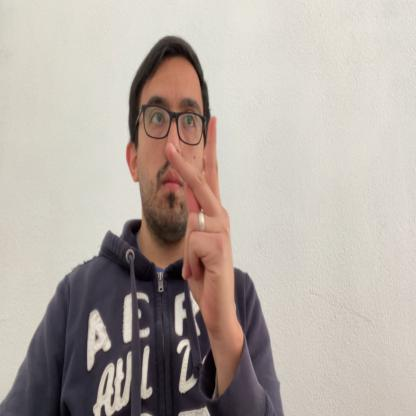P: (166, 114, 236, 337)
